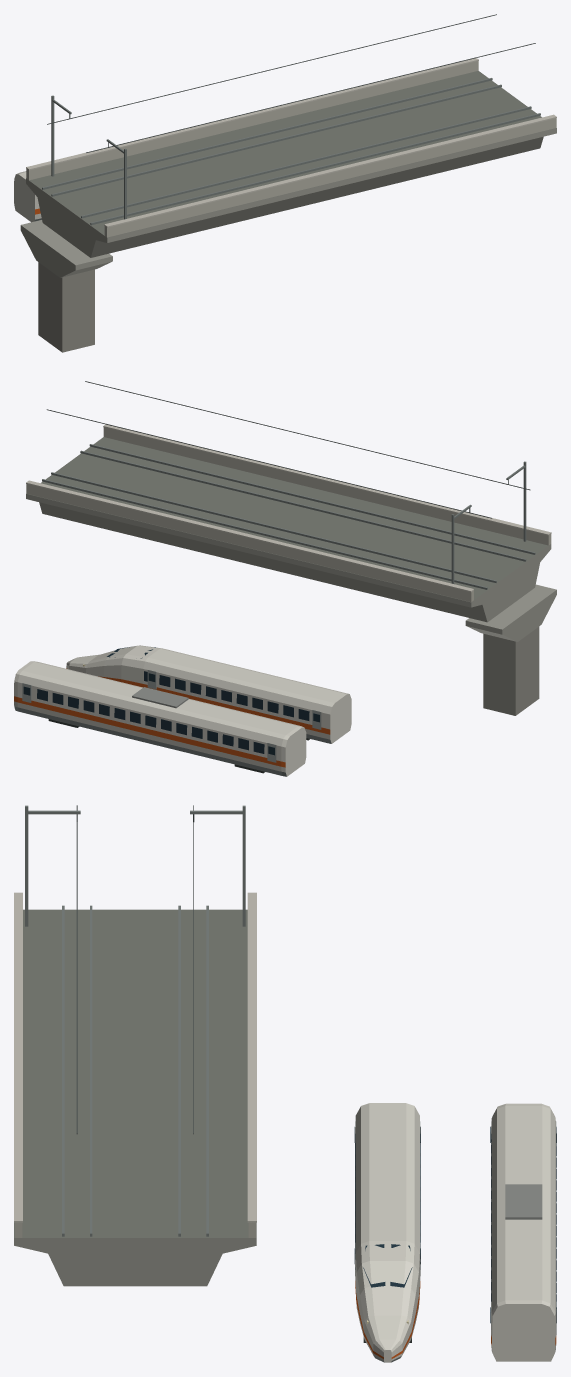
File: hsr.glb
The picture shows the model from 3 angles, top to bottom: view 1: azimuth 30°, elevation 25°; view 2: azimuth 150°, elevation 25°; view 3: azimuth 270°, elevation 25°; orthographic projection. The views are drawn at different scales.
Visible parts, largest first — view 1: Span, Pier, Coach; view 2: Span, Coach, Cab, Pier; view 3: Span, Coach, Cab.
Part boxes in pixels (bbox=[...]): Span: bbox=[26, 14, 556, 257]; Pier: bbox=[20, 220, 112, 352]; Coach: bbox=[14, 171, 41, 222]; Span: bbox=[26, 381, 551, 622]; Coach: bbox=[14, 661, 306, 776]; Cab: bbox=[66, 645, 351, 743]; Pier: bbox=[465, 584, 556, 715]; Span: bbox=[14, 805, 256, 1286]; Coach: bbox=[490, 1103, 556, 1361]; Cab: bbox=[354, 1103, 420, 1362].
Size of the model in its own units: 41.65 by 18 by 27.97.
